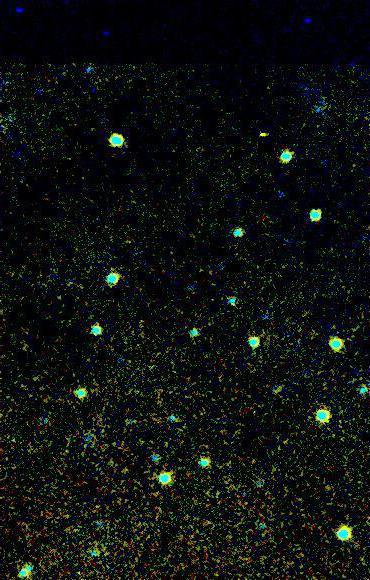star: (248, 122, 278, 152)
